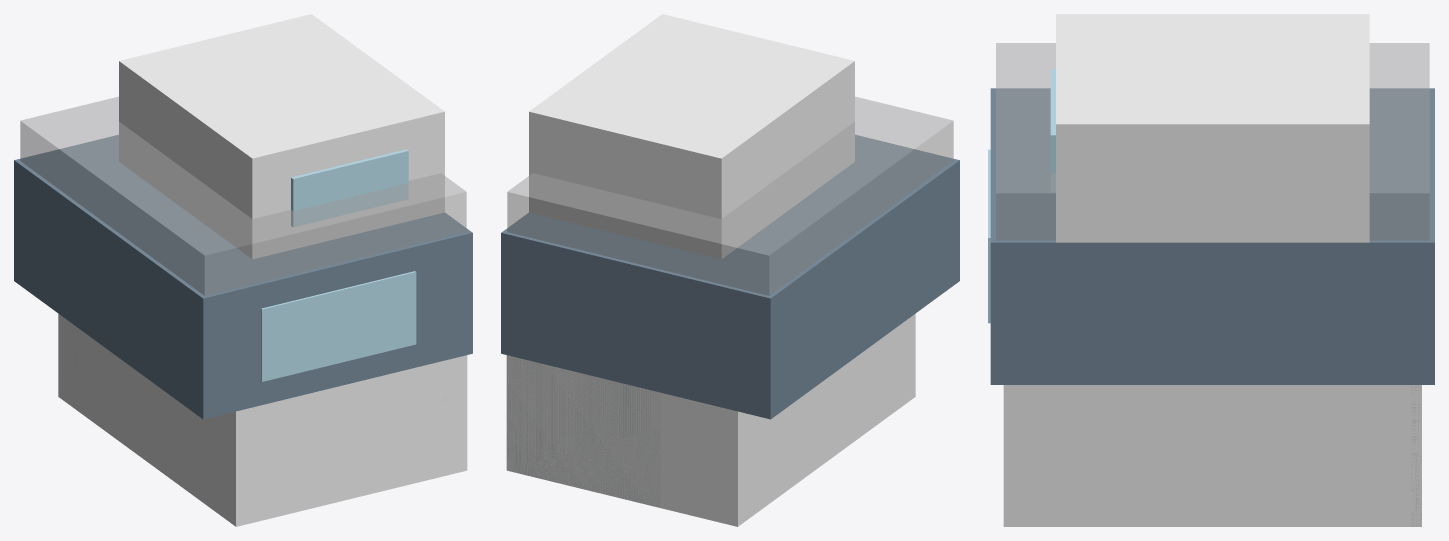
File: modern_3story_house.gltf
3 renders of one model, left to right at view 1: azimuth 30°, elevation 25°; view 2: azimuth 150°, elevation 25°; view 3: azimuth 270°, elevation 25°, orthographic. The views are drawn at different scales.
Size of the model in its own units: 70 by 85 by 85.5.
